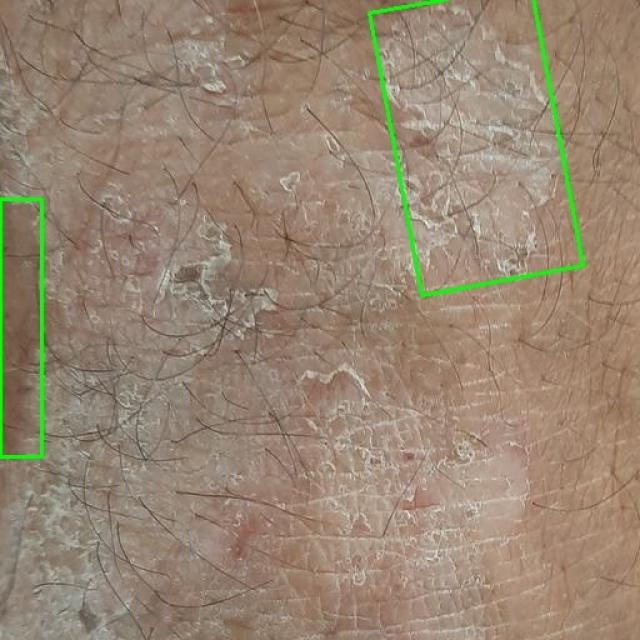Tinea Corporis: (370, 0, 583, 295), (0, 199, 41, 456)
